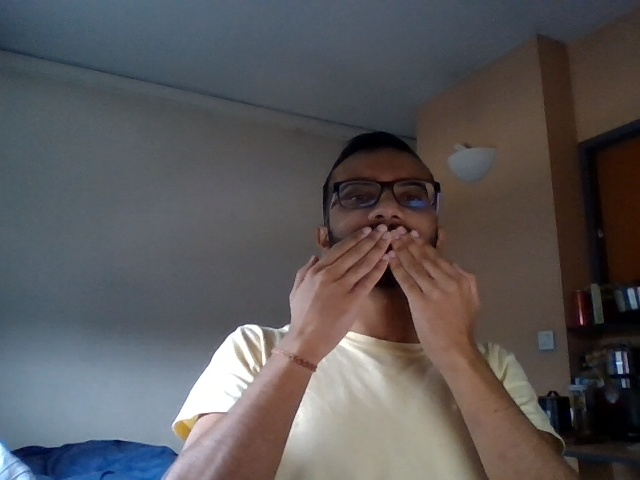Thanks: (273, 217, 496, 360)
